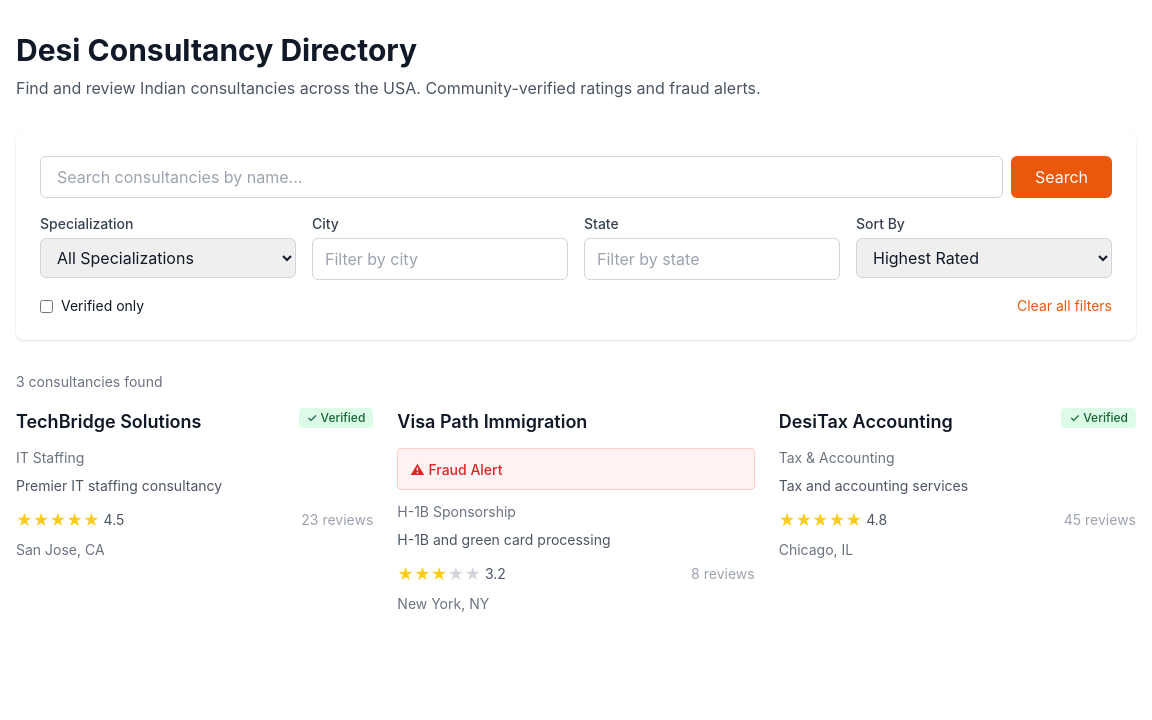
Test: ConsultanciesPage › Filter Interactions › should clear all filters when "Clear all filters" button is clicked
Click the checkbox labelled "Verified only": {"x": 46, "y": 306} [40,300,53,312]
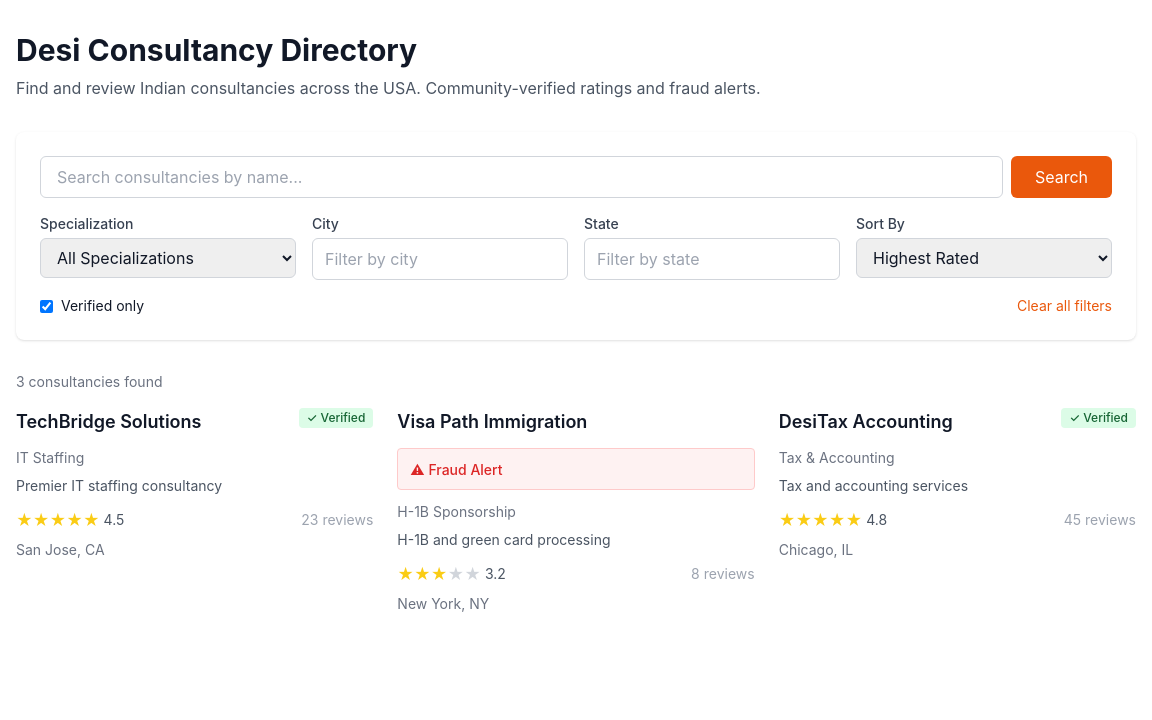
In the field labelled "City": {"x": 440, "y": 259} [312,238,568,280], type "San Jose"
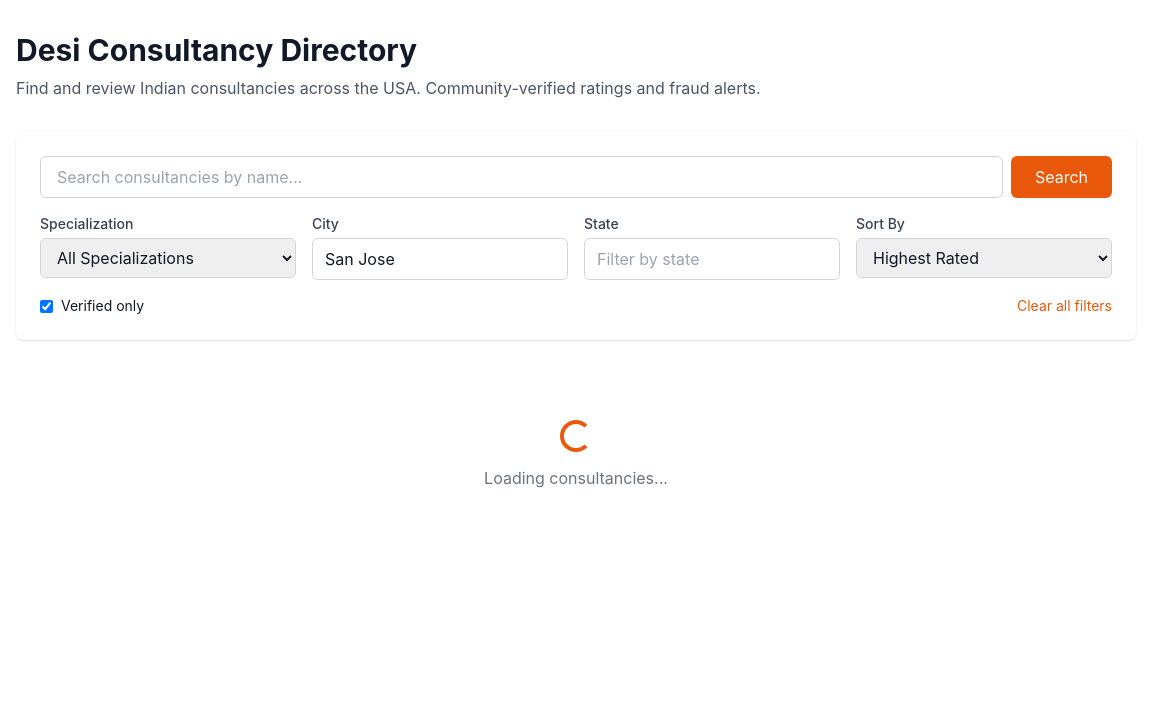
Expected: the checkbox labelled "Verified only" is checked, [40,300,53,312]
Click the button "Clear all filters": {"x": 1064, "y": 306} [1017,296,1112,316]
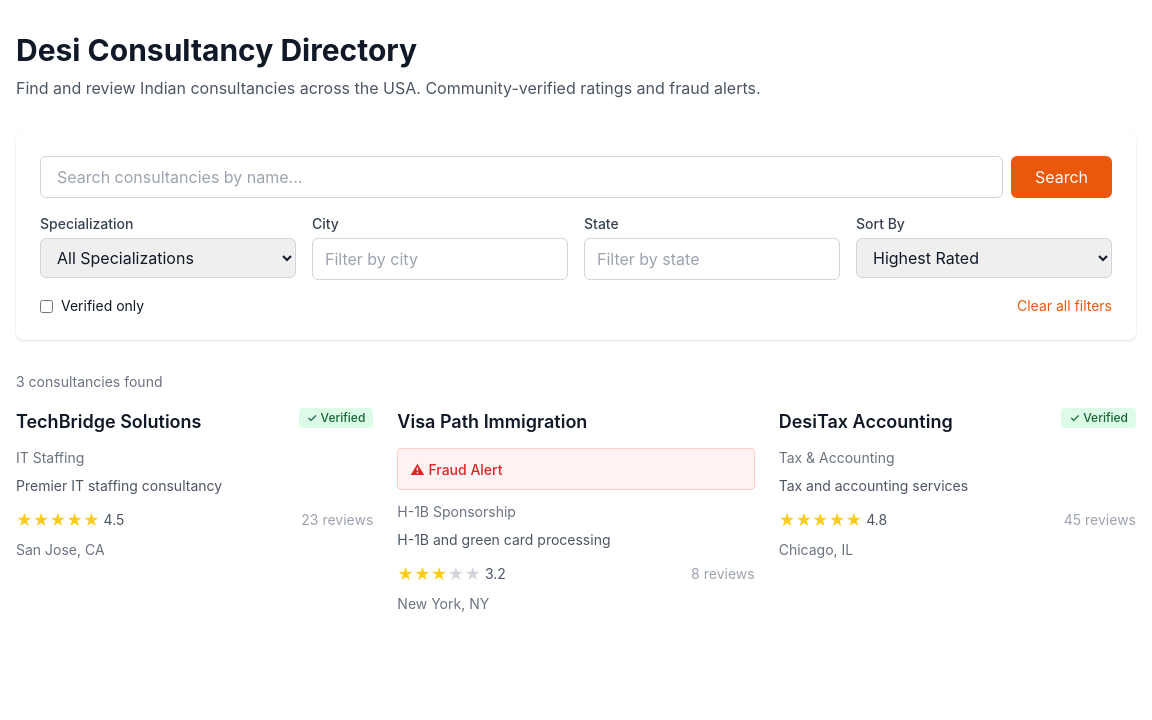
Expected: the checkbox labelled "Verified only" is not checked, [40,300,53,312]
Expected: the field labelled "City" is empty, [312,238,568,280]
